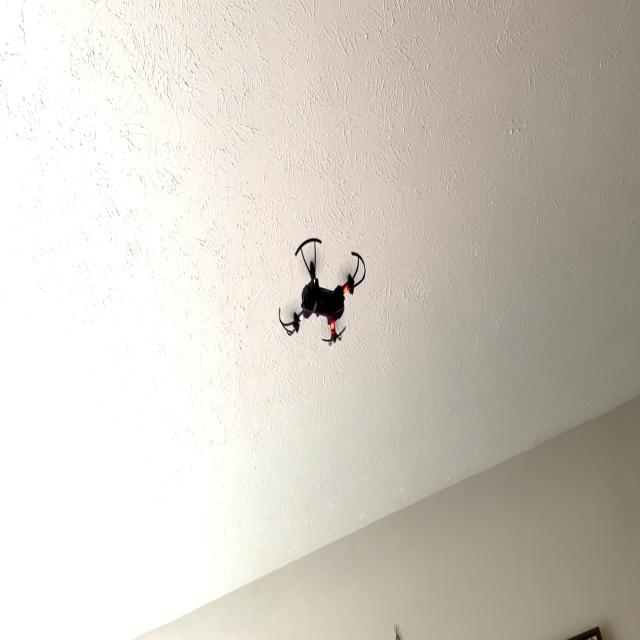drone: (273, 218, 375, 361)
